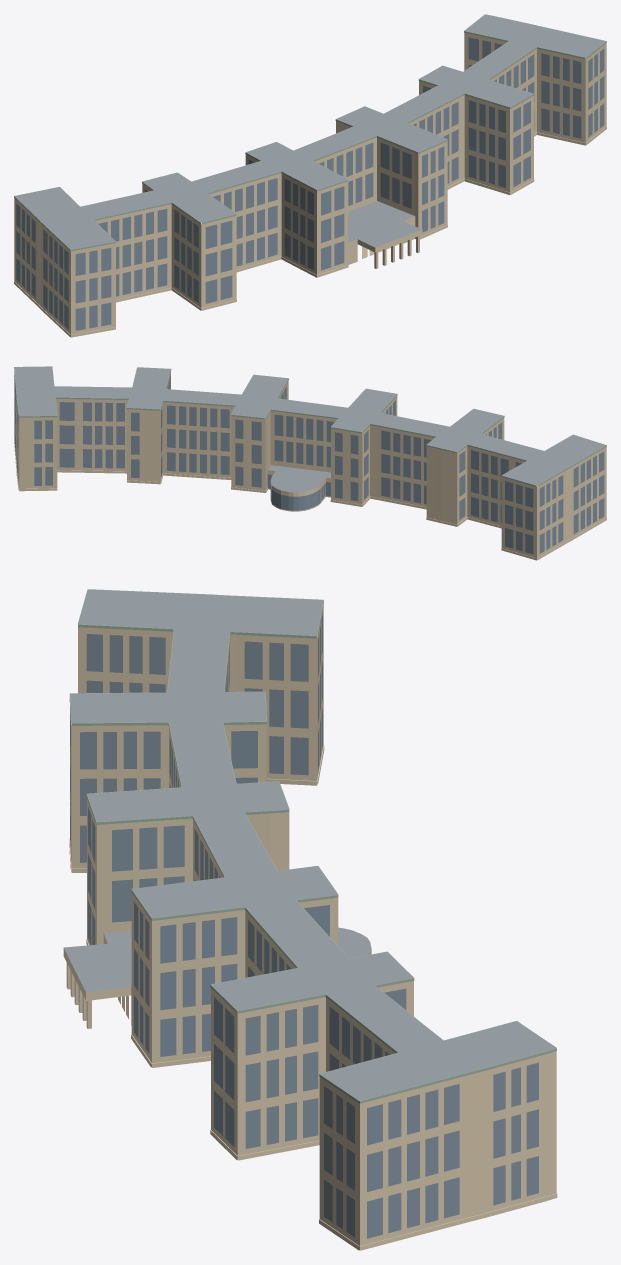
Rendered from frankfurt-ig-farben-haus.glb.
The picture shows the model from 3 angles, top to bottom: view 1: azimuth 30°, elevation 25°; view 2: azimuth 150°, elevation 25°; view 3: azimuth 270°, elevation 25°; orthographic projection. The views are drawn at different scales.
Visible parts, largest first — view 1: IG-Farben-Haus; view 2: IG-Farben-Haus; view 3: IG-Farben-Haus.
Boxes of the visible parts, x1,y1,x2,y2 form: IG-Farben-Haus: (14, 14, 606, 337); IG-Farben-Haus: (14, 366, 606, 560); IG-Farben-Haus: (63, 589, 557, 1250).
Bounding box in the file's own units: 257 × 35 × 105.
